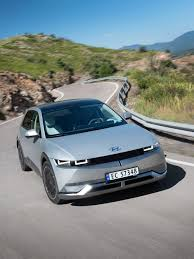Honda Ioniq: (14, 98, 170, 210)
